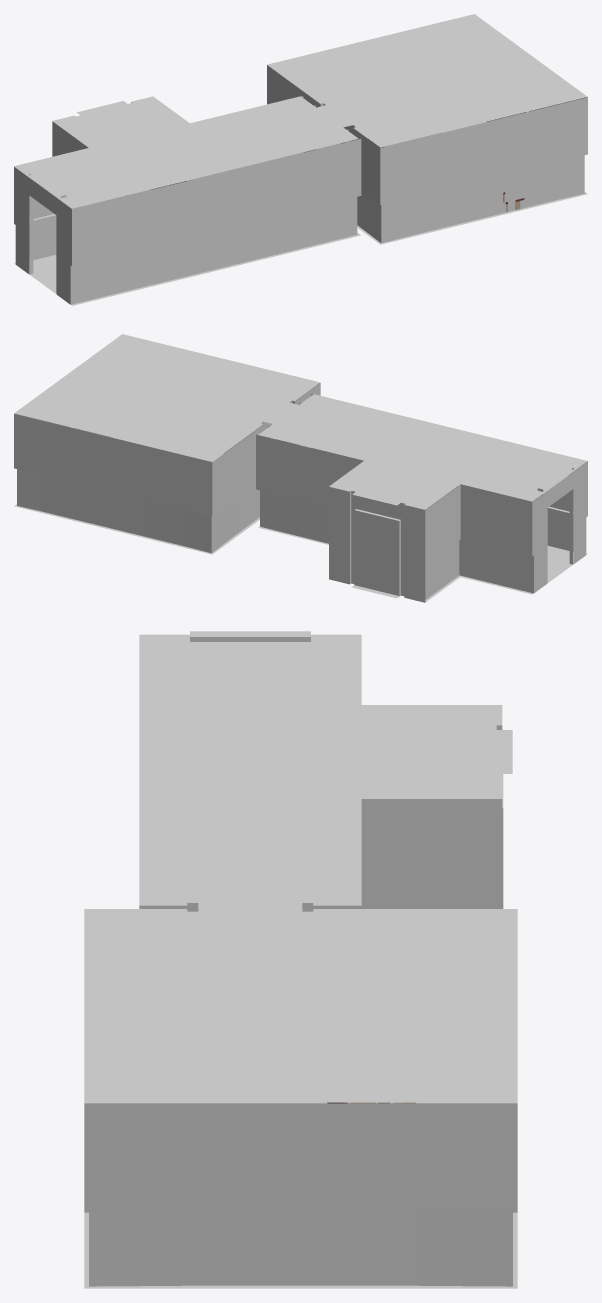
Rendered from JobRoom.FBX.
3 views of the same model, one above another, from view 1: azimuth 30°, elevation 25°; view 2: azimuth 150°, elevation 25°; view 3: azimuth 270°, elevation 25° (orthographic). The views are drawn at different scales.
Visible parts, largest first — view 1: Room1_Floor001, JOBROOM, Box104; view 2: Room1_Floor001, JOBROOM, Box104; view 3: JOBROOM, Room1_Floor001, Box104.
Boxes of the visible parts, bbox=[...] form: Room1_Floor001: bbox=[14, 65, 587, 304]; JOBROOM: bbox=[14, 14, 587, 305]; Box104: bbox=[29, 171, 66, 293]; Room1_Floor001: bbox=[14, 383, 587, 602]; JOBROOM: bbox=[14, 334, 587, 602]; Box104: bbox=[537, 466, 573, 582]; JOBROOM: bbox=[84, 634, 517, 1288]; Room1_Floor001: bbox=[84, 725, 517, 1286]; Box104: bbox=[190, 631, 310, 641].
Size of the model in its own units: 12704 by 2438 by 4970.
